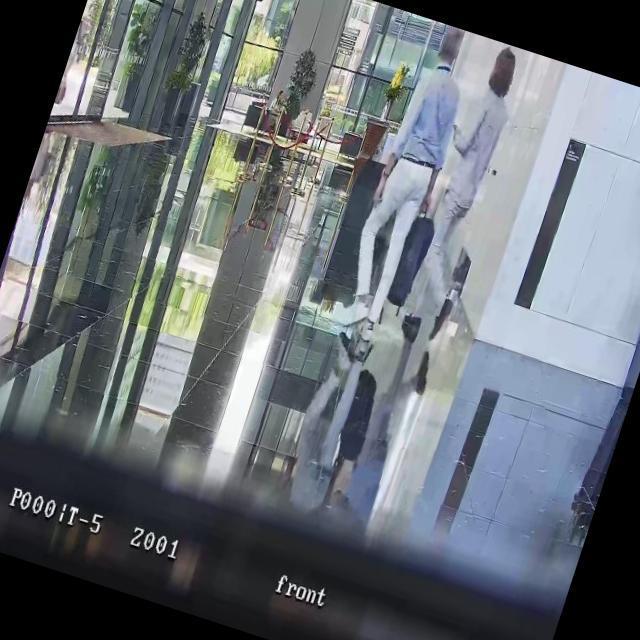person: (332, 22, 485, 340), (390, 38, 529, 339), (262, 88, 290, 138)
